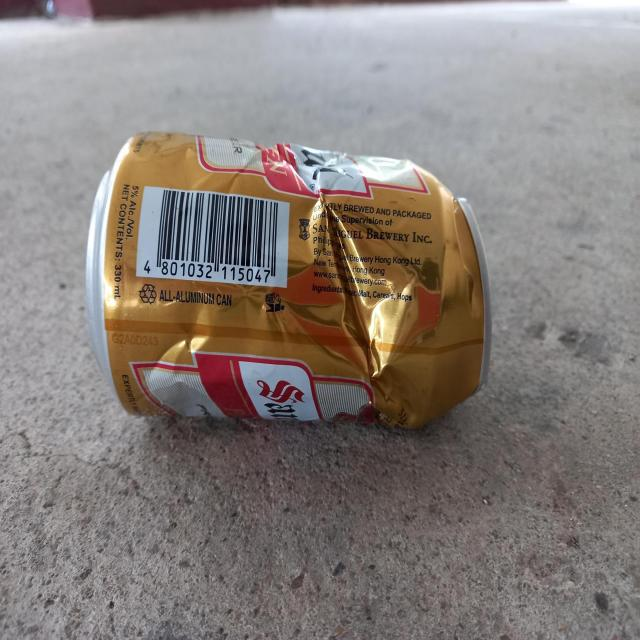can: (86, 132, 492, 428)
